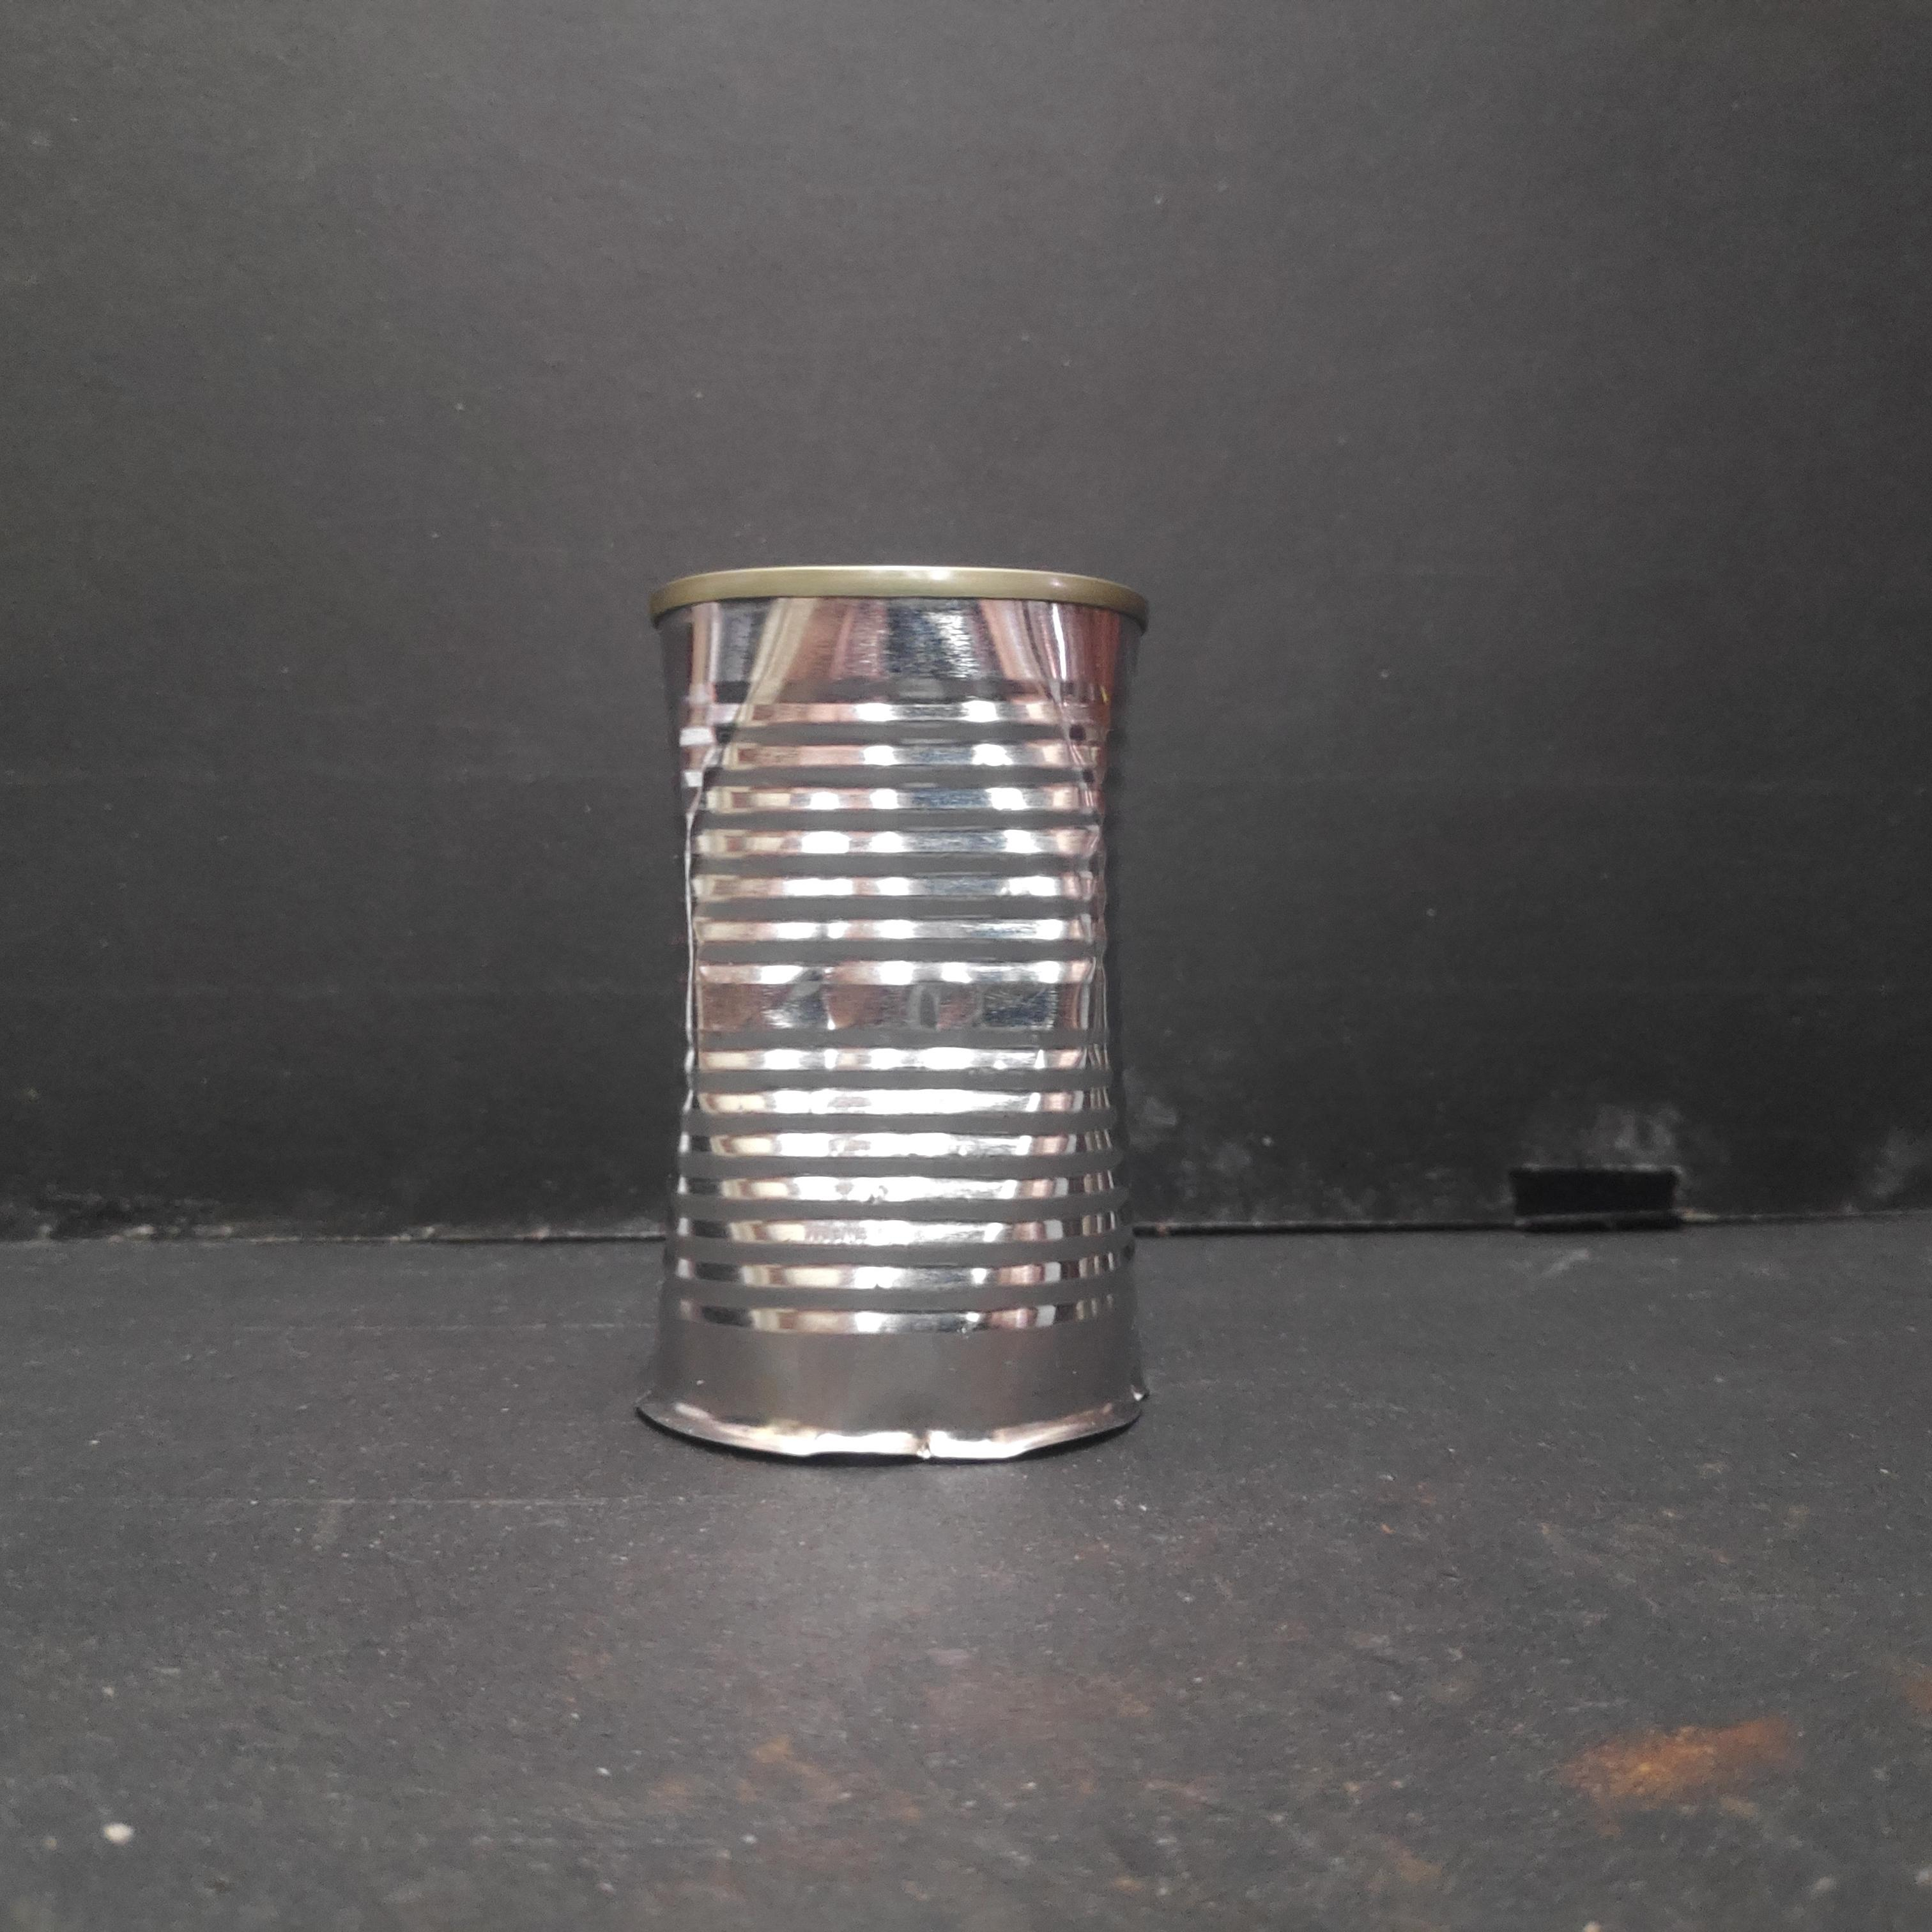Minor Defect: (640, 557, 1161, 1484)
